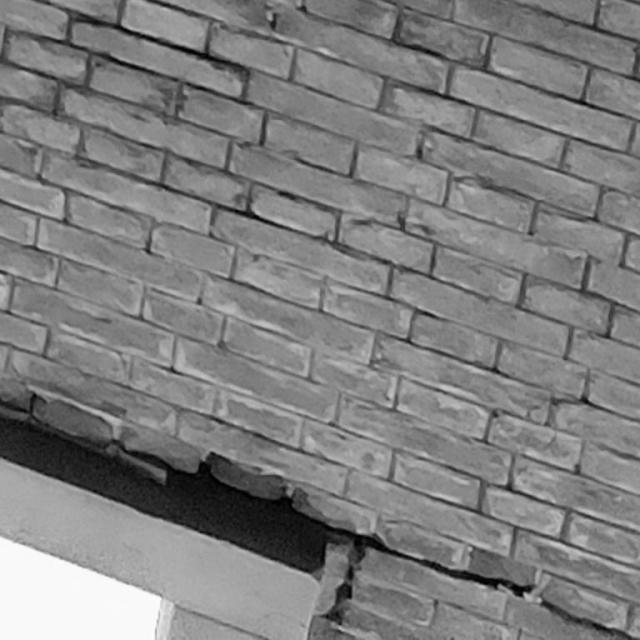crack: (1, 394, 640, 640)
